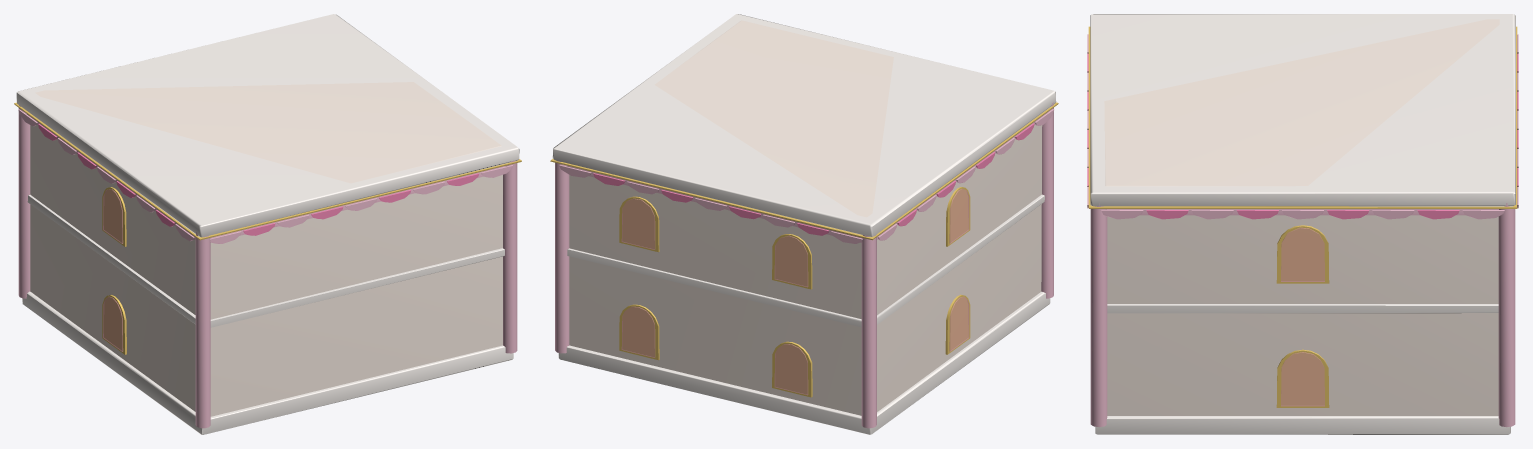
The model's file is house_shell_wide.glb.
3 views of the same model, side by side, from view 1: azimuth 30°, elevation 25°; view 2: azimuth 150°, elevation 25°; view 3: azimuth 270°, elevation 25° (orthographic). The views are drawn at different scales.
Visible parts, largest first — view 1: house_shell_wide; view 2: house_shell_wide; view 3: house_shell_wide.
Boxes of the visible parts, x1=… form: house_shell_wide: x1=14, y1=14, x2=521, y2=434; house_shell_wide: x1=550, y1=14, x2=1058, y2=434; house_shell_wide: x1=1087, y1=14, x2=1518, y2=434.
Size of the model in its own units: 12.74 by 8 by 12.74.
